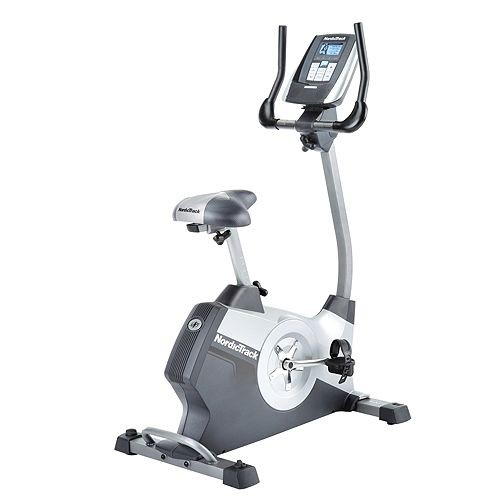gym_bike: (77, 12, 416, 492)
